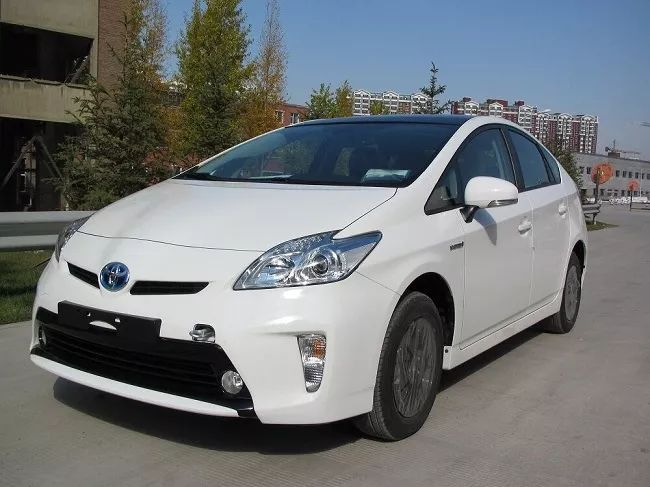white: (27, 112, 586, 440)
